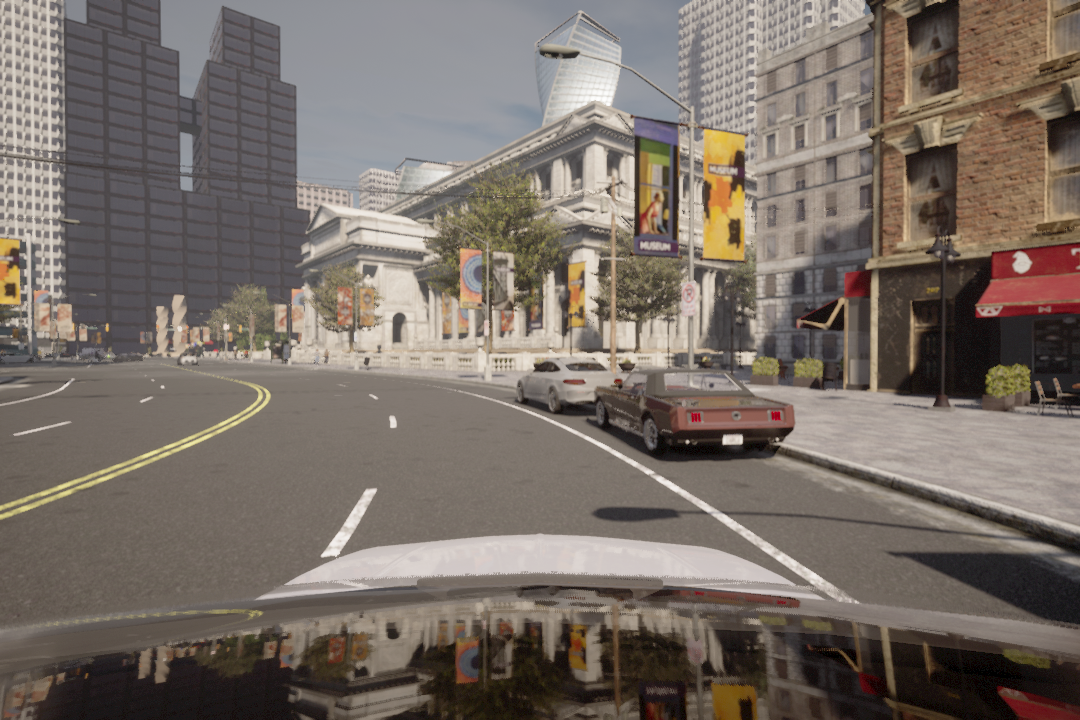TrafficSign_nstop: (681, 281, 698, 314)
